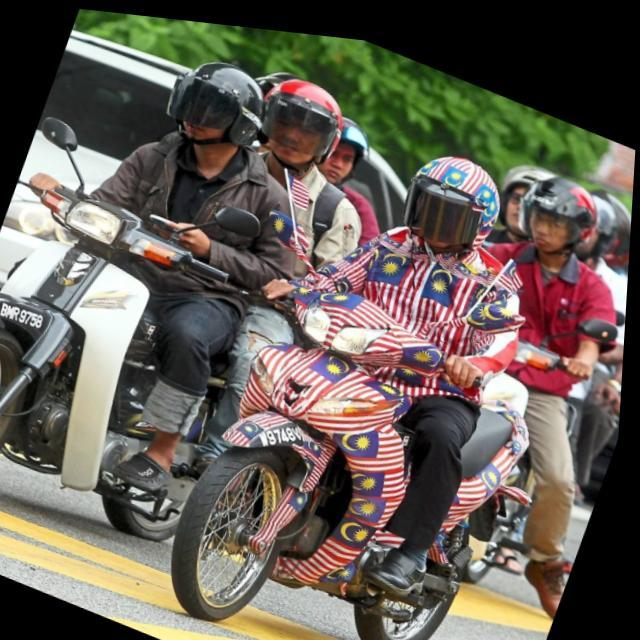Helmet: (399, 145, 494, 258), (159, 56, 259, 163), (258, 78, 346, 174)
